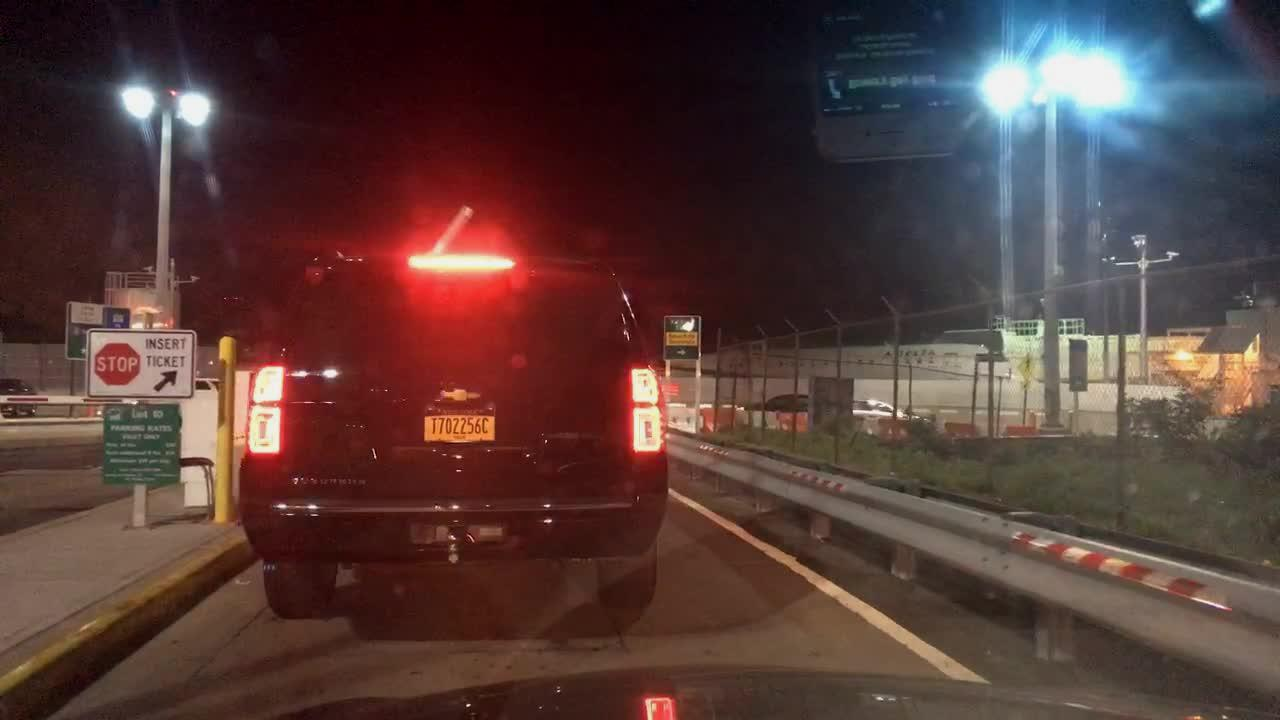chevrolet: (441, 384, 483, 404)
